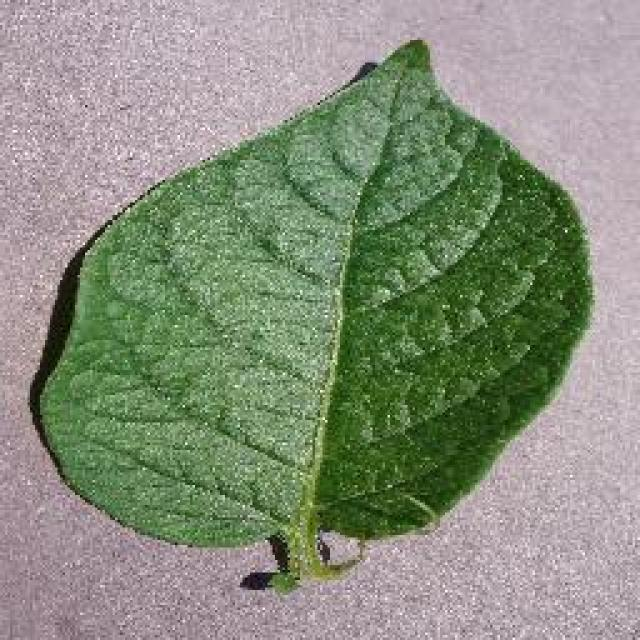Potato: (27, 35, 595, 593)
